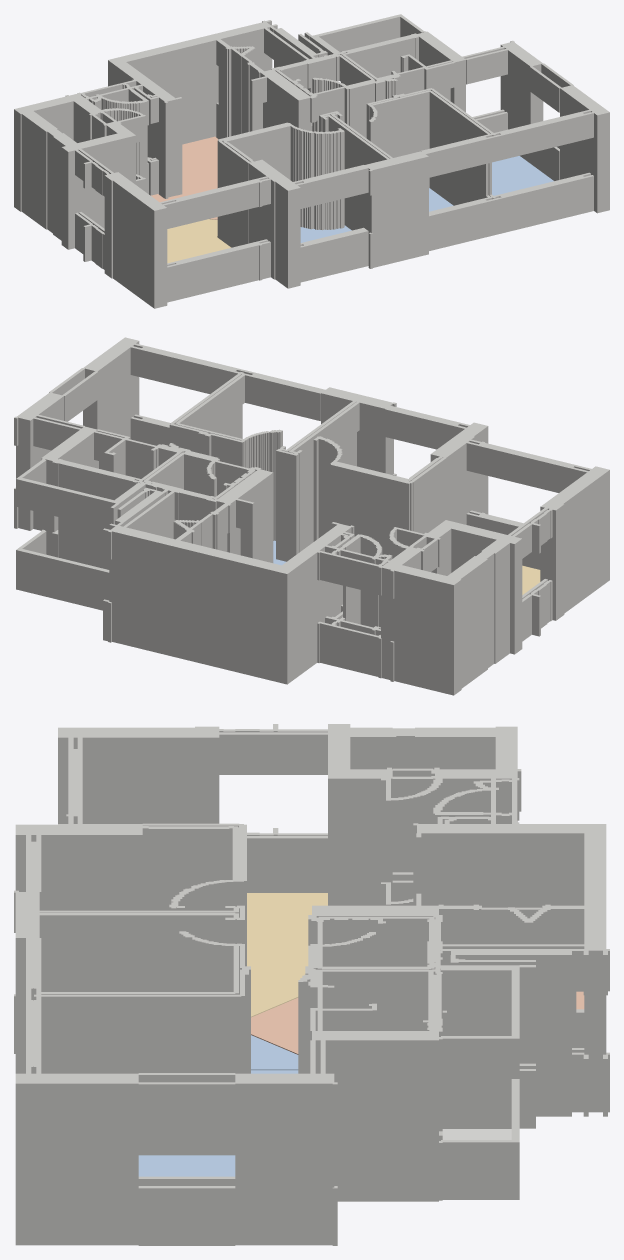
The picture shows the model from 3 angles, top to bottom: view 1: azimuth 30°, elevation 25°; view 2: azimuth 150°, elevation 25°; view 3: azimuth 270°, elevation 25°; orthographic projection. The views are drawn at different scales.
Parts seen in each view (by area): view 1: walls, room:kitchen:0, room:living:6, room:bedroom:5, room:bedroom:7; view 2: walls; view 3: walls, room:living:6, room:bedroom:5, room:kitchen:0, room:bedroom:7, room:ledge:3.
Boxes of the visible parts, x1,y1,x2,y2 form: walls: (14, 14, 609, 308); room:kitchen:0: (151, 136, 217, 219); room:living:6: (167, 219, 231, 263); room:bedroom:5: (492, 156, 553, 195); room:bedroom:7: (300, 225, 351, 242); walls: (14, 337, 609, 695); walls: (14, 724, 609, 1245); room:living:6: (247, 893, 327, 1017); room:bedroom:5: (138, 1155, 235, 1176); room:kitchen:0: (251, 991, 584, 1054); room:bedroom:7: (251, 1035, 298, 1070); room:ledge:3: (442, 1129, 511, 1139).
Size of the model in its own units: 13.4 by 2.8 by 9.37.
